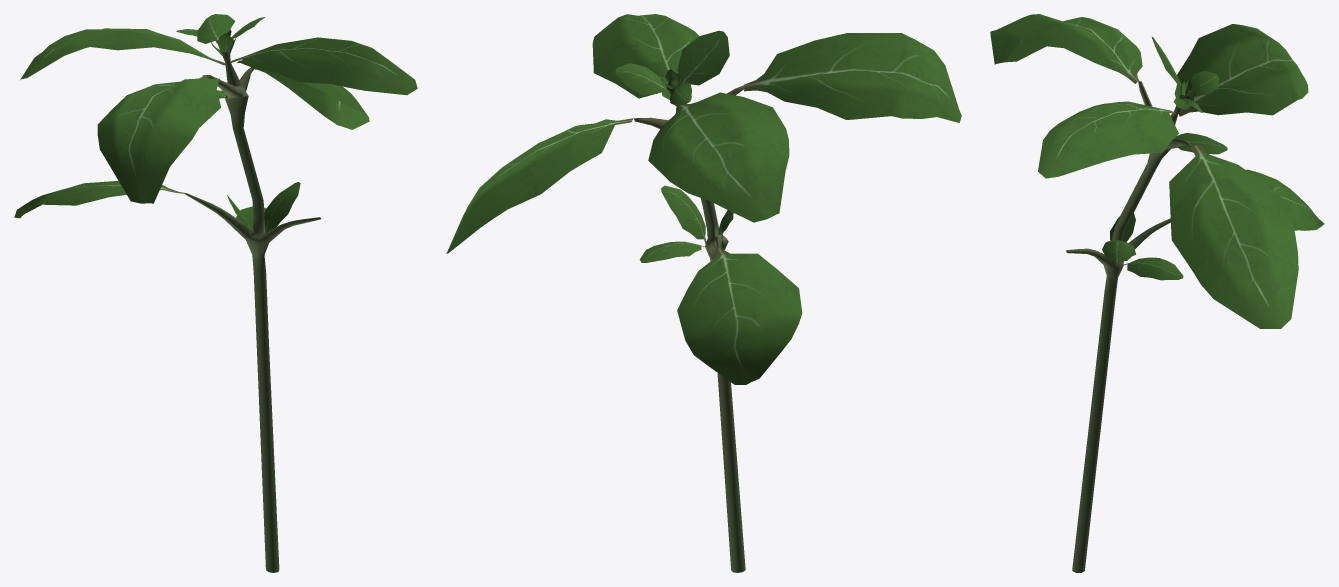
The model's file is SM_basil02.FBX.
3 views of the same model, side by side, from view 1: azimuth 30°, elevation 25°; view 2: azimuth 150°, elevation 25°; view 3: azimuth 270°, elevation 25° (orthographic). The views are drawn at different scales.
Parts seen in each view (by area): view 1: SM_basil02; view 2: SM_basil02; view 3: SM_basil02.
Boxes of the visible parts, bbox=[...] form: SM_basil02: bbox=[14, 14, 417, 572]; SM_basil02: bbox=[446, 14, 961, 572]; SM_basil02: bbox=[990, 14, 1324, 572].
Bounding box in the file's own units: 10.72 × 9.15 × 15.78.
